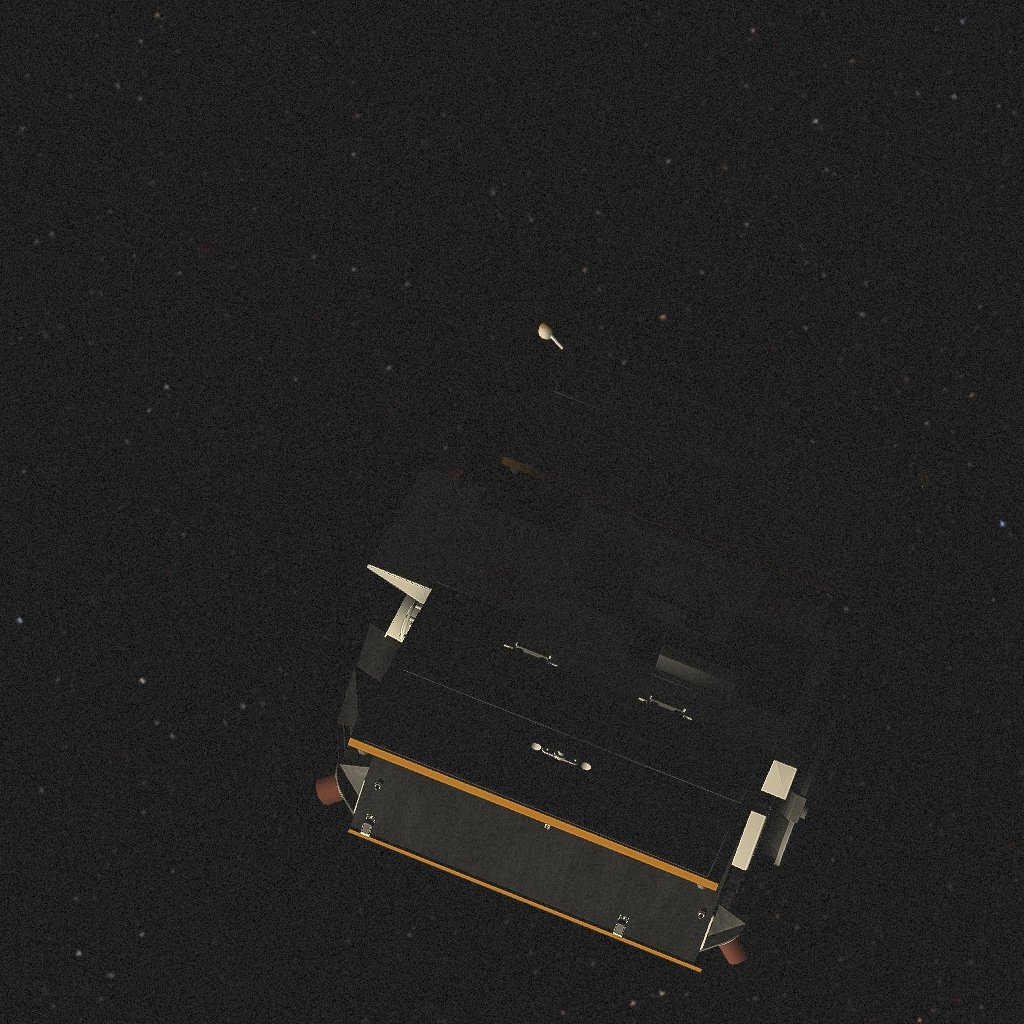proba_2: (316, 322, 934, 972)
